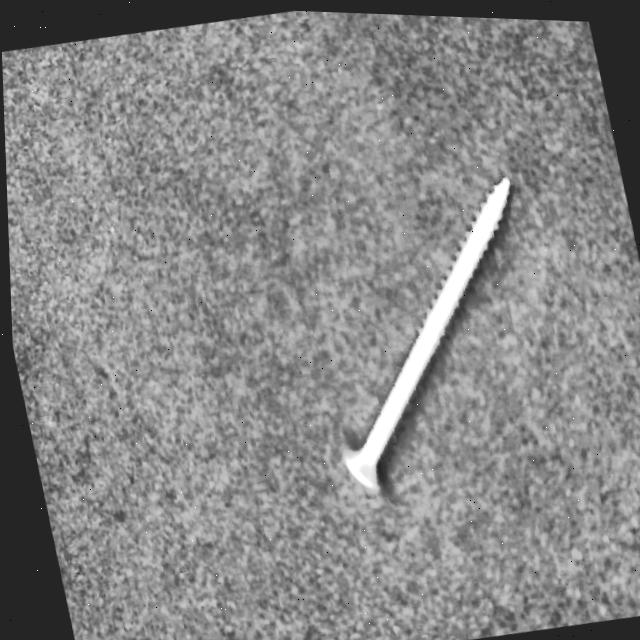Wood screw: (285, 162, 567, 498)
